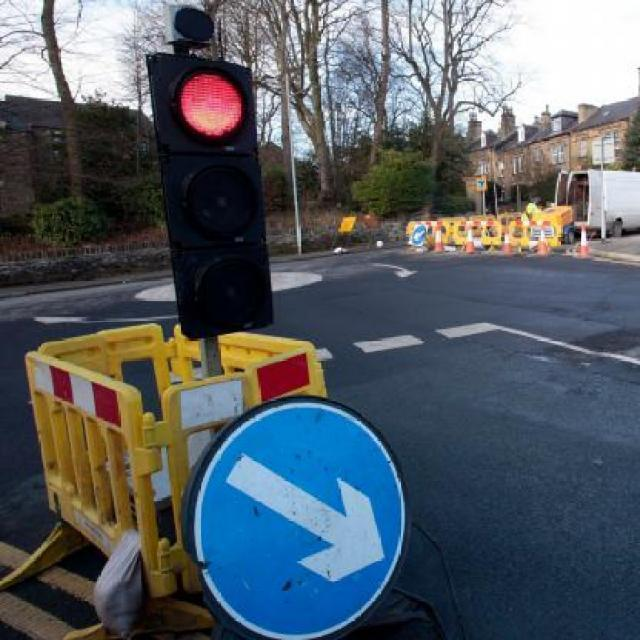red_light: (129, 42, 285, 340)
